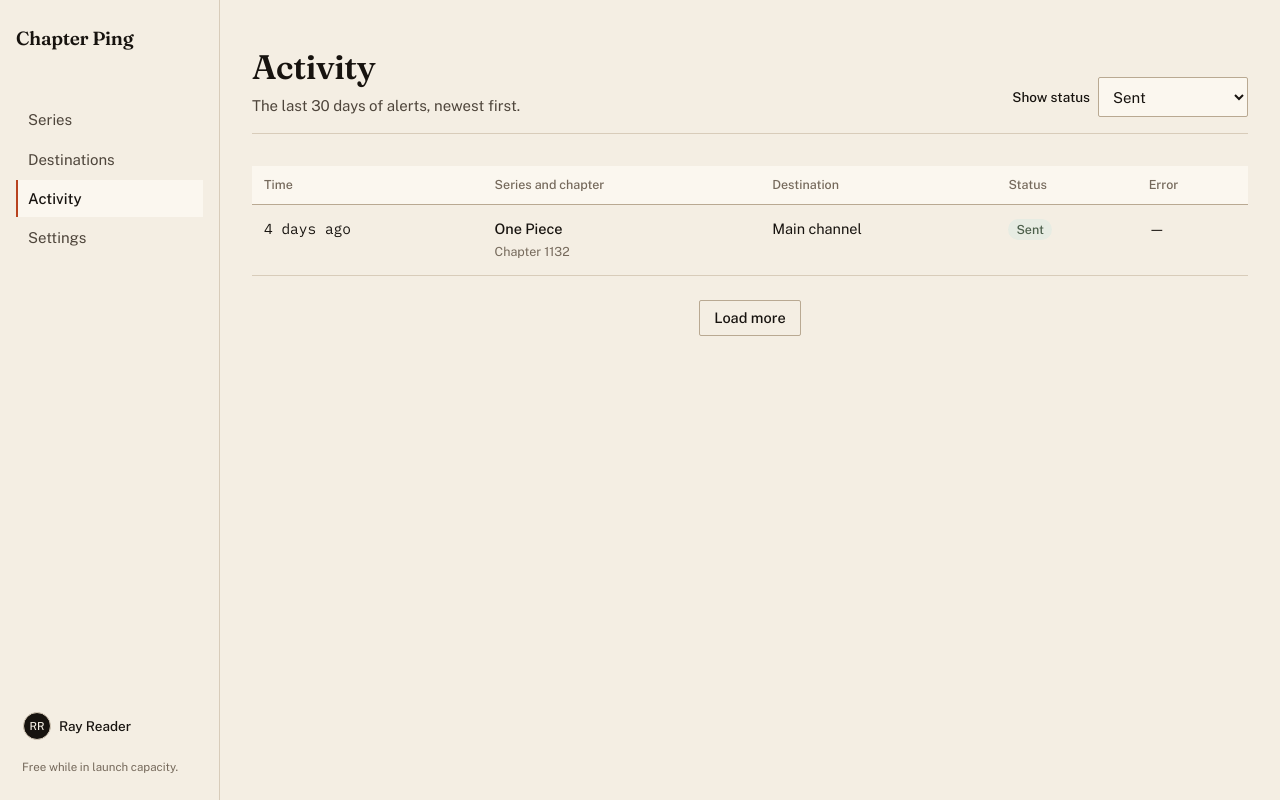
Test: activity › honours the status filter in the URL and appends the next page
Expected: the link "Chapter 1132" is shown, [495,244,570,259]
Expected: the dropdown labelled "Show status" shows "Sent", [1098,77,1248,117]
Click the button "Load more": (750, 318) [699,300,801,336]
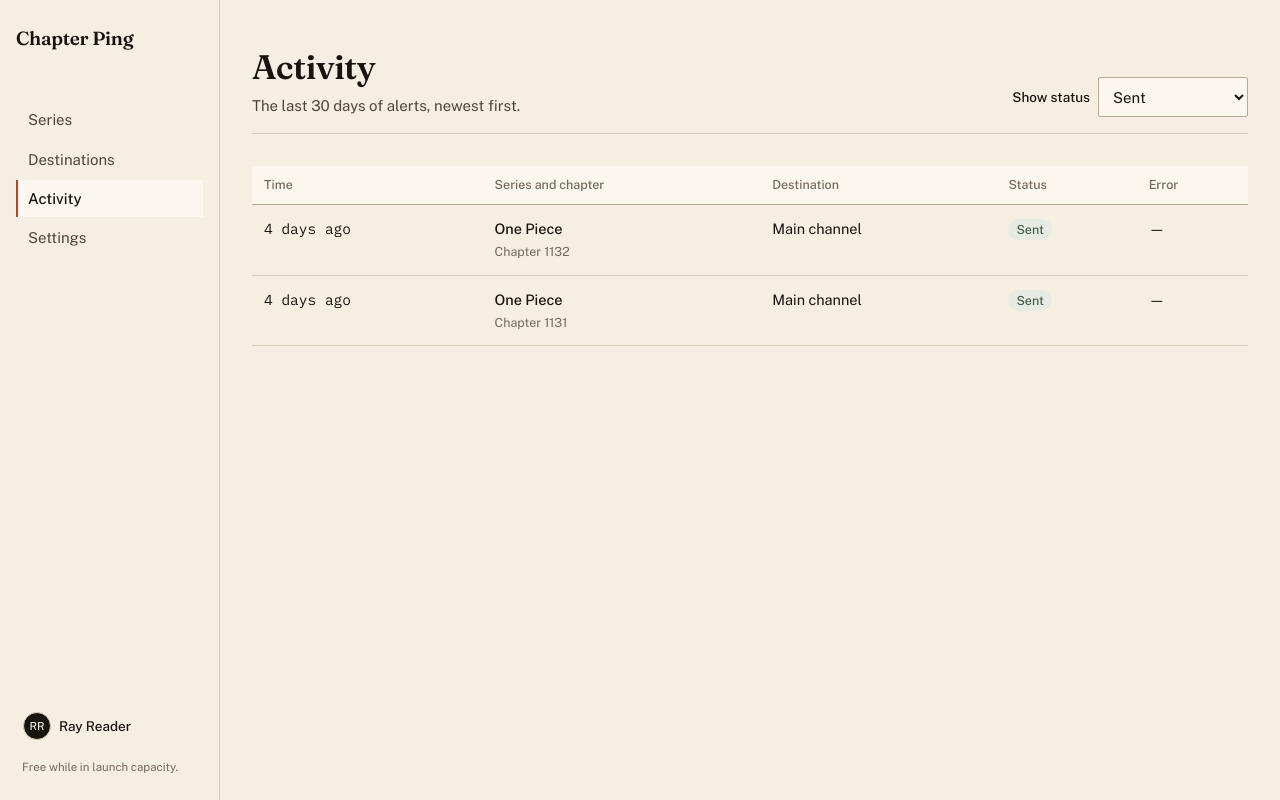
Expected: the link "Chapter 1131" is shown, [495,315,567,330]
